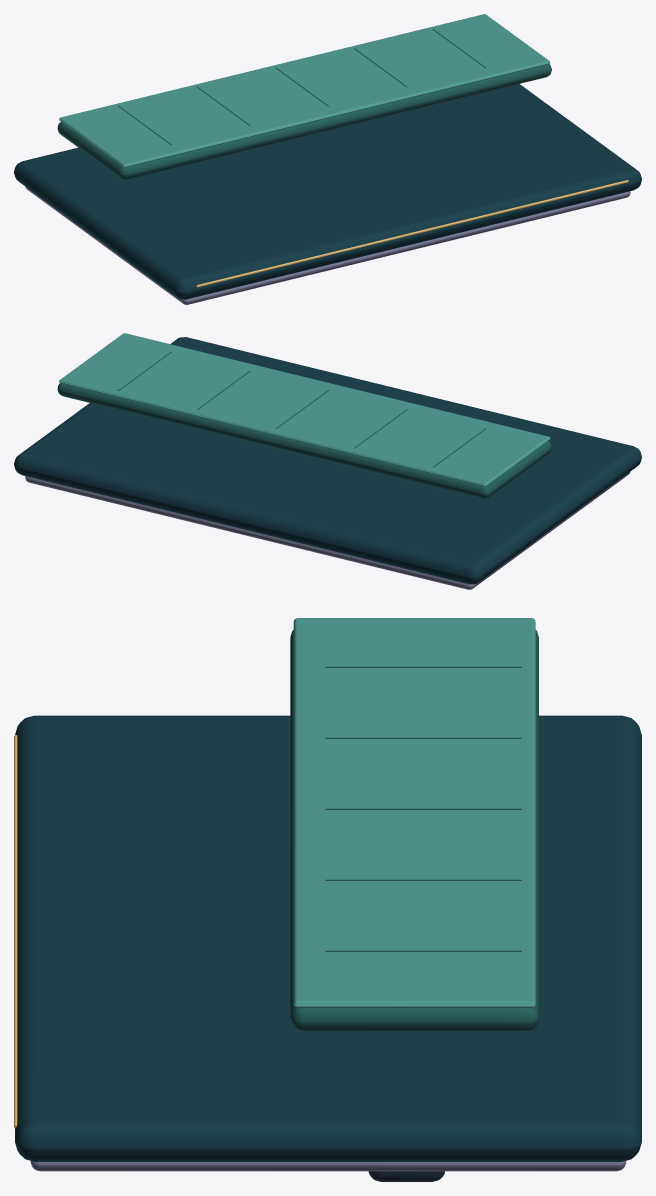
File: rooftop_base.glb
3 renders of one model, top to bottom at view 1: azimuth 30°, elevation 25°; view 2: azimuth 150°, elevation 25°; view 3: azimuth 270°, elevation 25°, orthographic. The views are drawn at different scales.
Parts seen in each view (by area): view 1: rooftop_base_mesh; view 2: rooftop_base_mesh; view 3: rooftop_base_mesh.
Boxes of the visible parts, <box> form: rooftop_base_mesh: <box>14,14,641,304</box>; rooftop_base_mesh: <box>14,333,641,589</box>; rooftop_base_mesh: <box>14,618,641,1181</box>.
Size of the model in its own units: 8.9 by 1.89 by 5.61.
